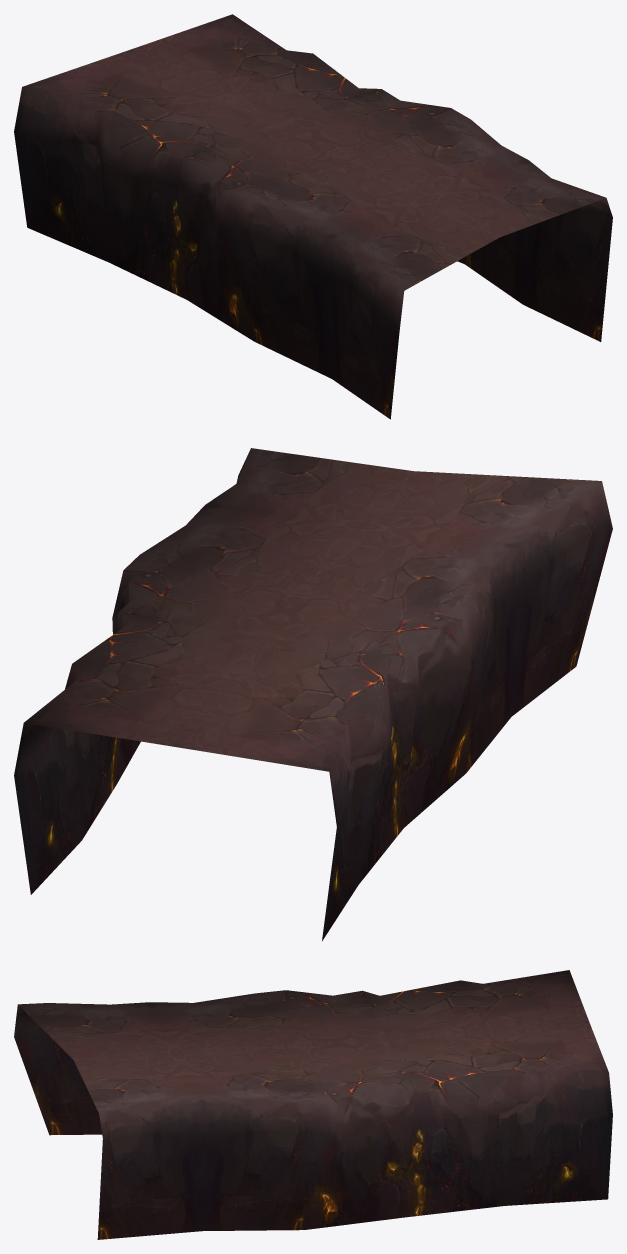
Rendered from Dxlm_dibiao02.FBX.
The picture shows the model from 3 angles, top to bottom: view 1: azimuth 30°, elevation 25°; view 2: azimuth 150°, elevation 25°; view 3: azimuth 270°, elevation 25°; orthographic projection. The views are drawn at different scales.
Visible parts, largest first — view 1: Dxlm_dibiao02; view 2: Dxlm_dibiao02; view 3: Dxlm_dibiao02.
Boxes of the visible parts, x1,y1,x2,y2 form: Dxlm_dibiao02: (14, 14, 612, 419); Dxlm_dibiao02: (14, 448, 612, 940); Dxlm_dibiao02: (14, 970, 612, 1239).
Bounding box in the file's own units: 496 × 834 × 198.
